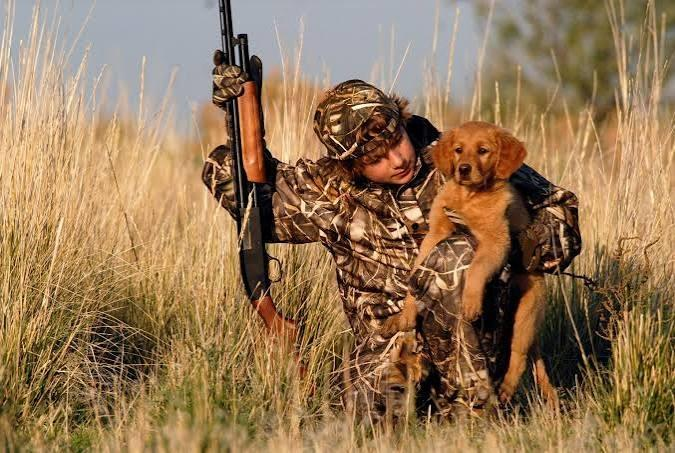non-dog: (193, 47, 587, 441)
puppy-dog: (379, 120, 572, 416)
